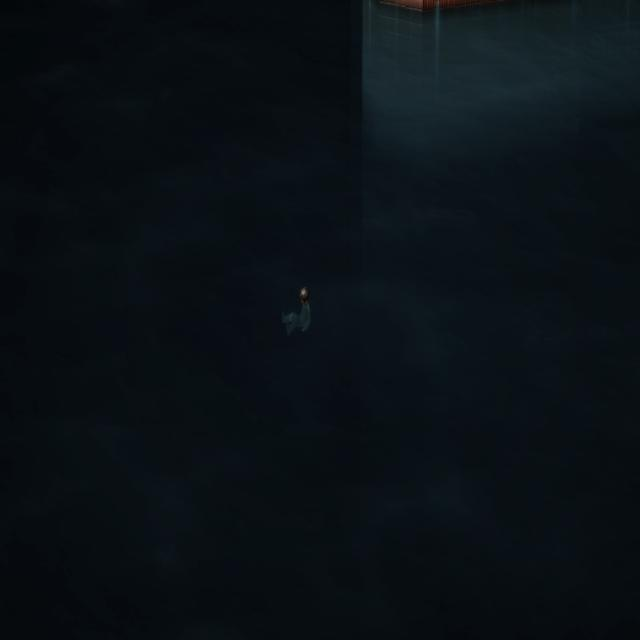Human: (280, 281, 317, 347)
